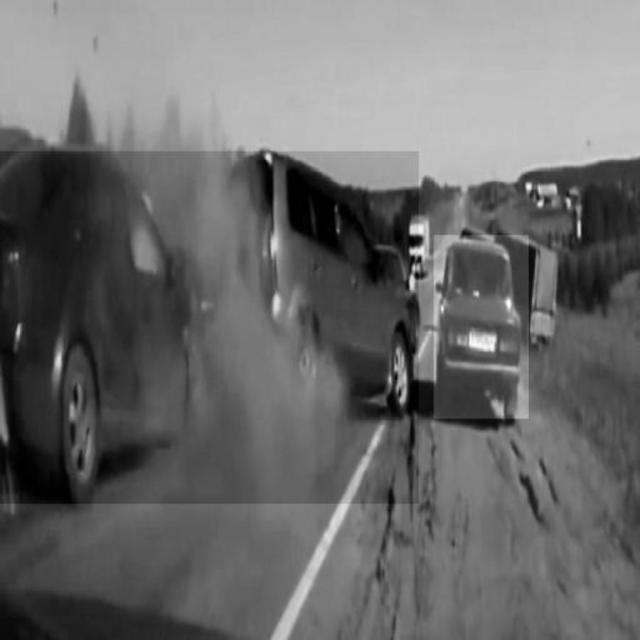accident: (0, 152, 418, 504)
vehicle: (435, 235, 529, 419)
